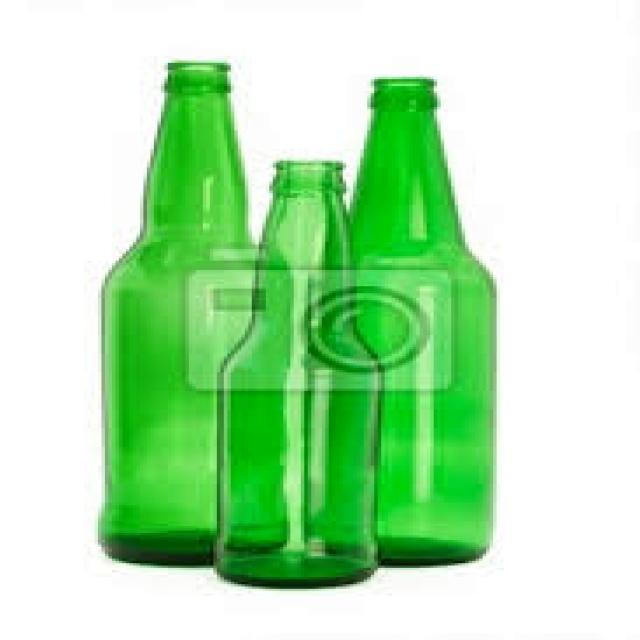Glass: (98, 63, 255, 564), (350, 79, 497, 567), (217, 163, 381, 588)
